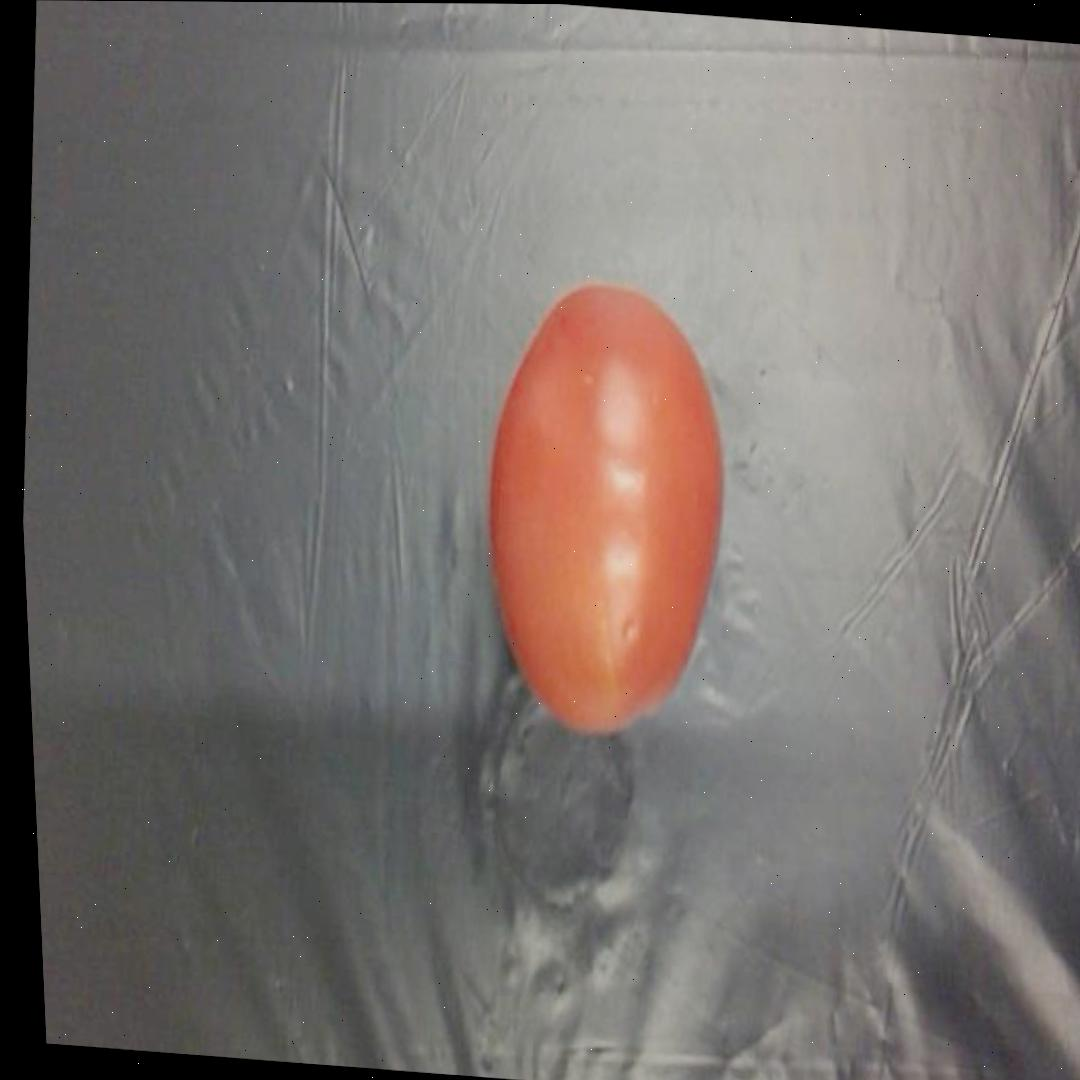matang: (466, 278, 749, 747)
